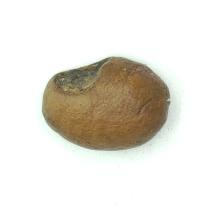NG: (47, 56, 116, 93)
